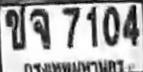0: (102, 5, 119, 45)
1: (86, 6, 96, 46)
4: (122, 4, 138, 45)
7: (62, 6, 80, 47)
A08: (29, 8, 50, 49)
A10: (4, 6, 26, 49)
BKK: (22, 59, 125, 72)
